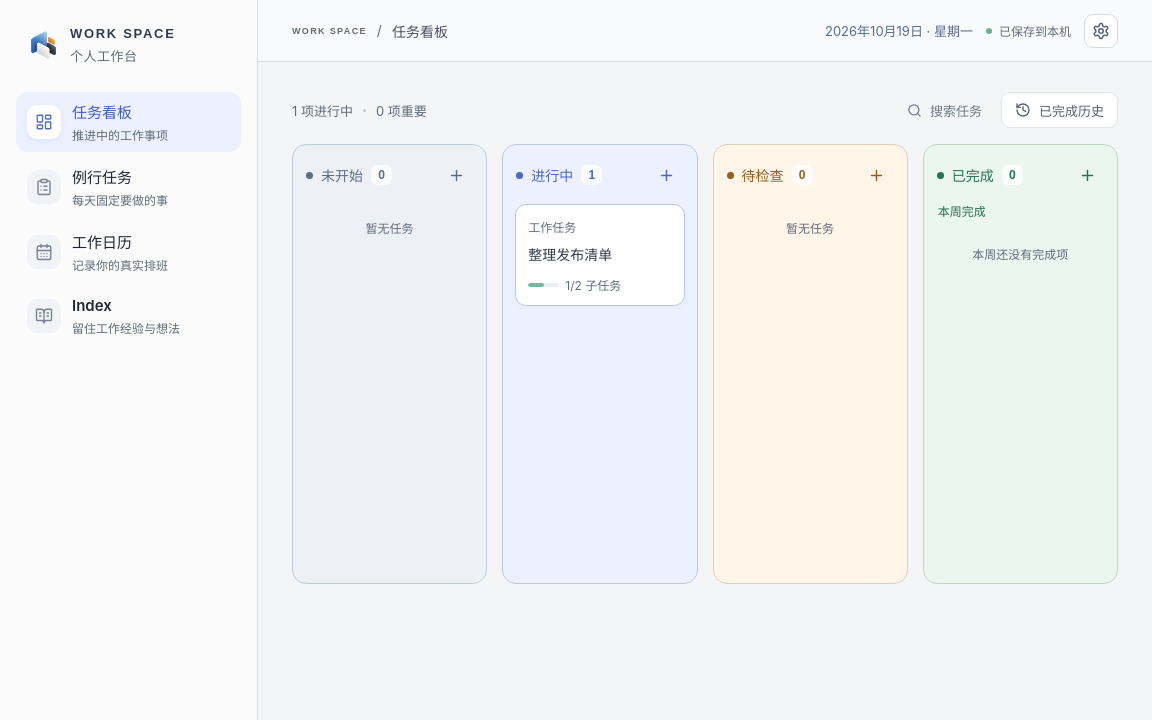
it: subtask completion through the workspace persistence flow › updates progress, auto-completes the parent, and sends the new workspace to the existing save hook
Click the button with aria-label "整理发布清单：子任务 1/2，展开" at (575, 285), box [528, 276, 621, 293]
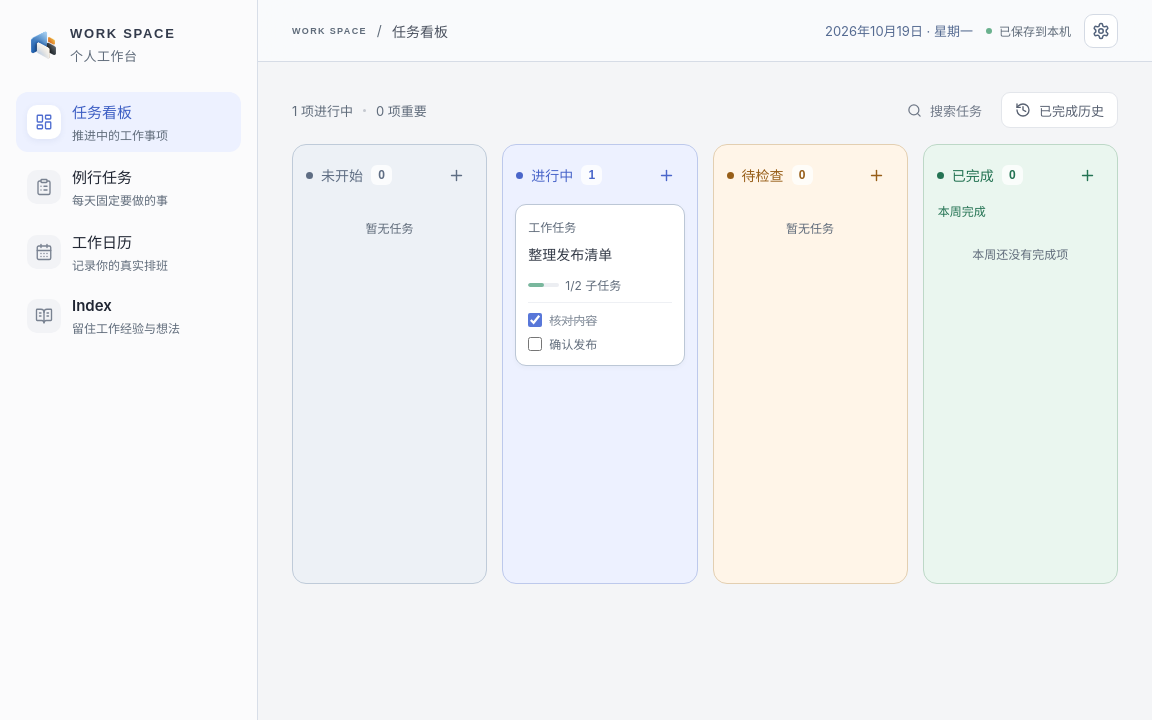
Click the checkbox named "子任务：确认发布" at (535, 344), box [528, 337, 542, 351]
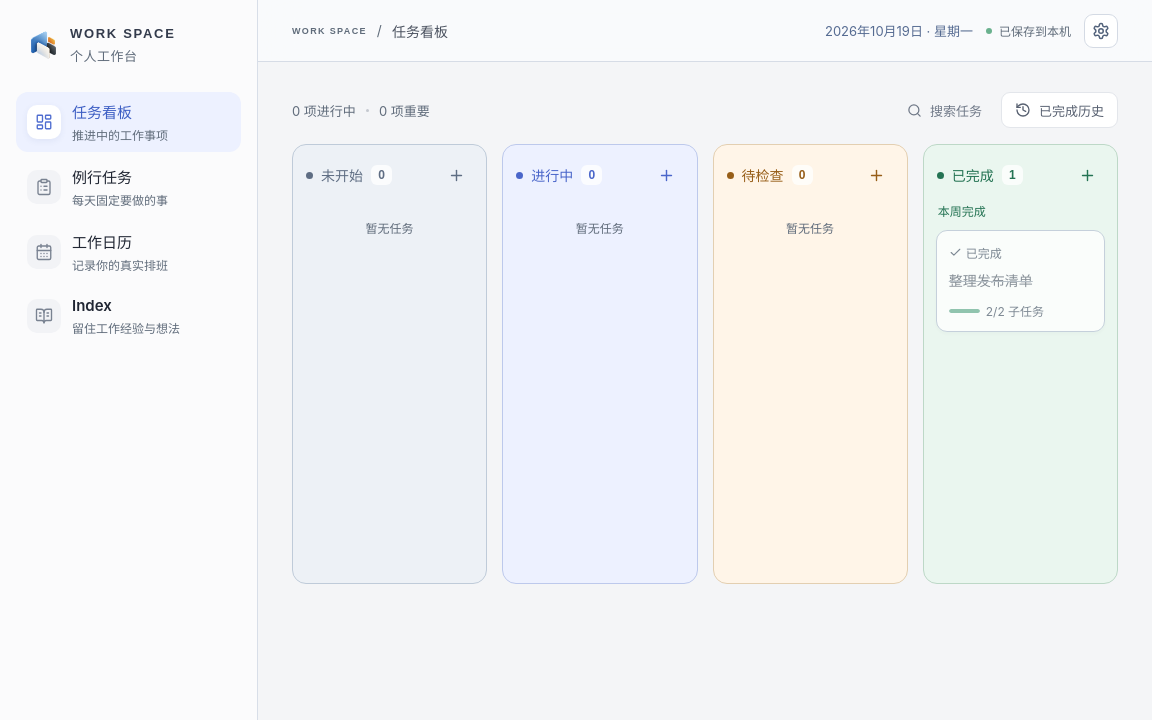
Expected: the text "2/2 子任务" is shown, [986, 302, 1044, 319]
